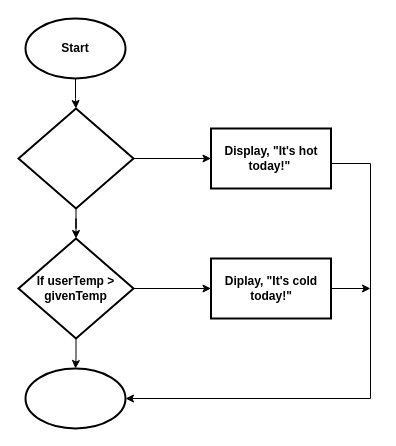
The diagram is 396 pixels wide and 446 high, and some of its shapes have lost their labels. Here are the shapes that lost their labels. From the top down, the box of each, then its label:
(17, 107, 134, 209): If userTemp < givenTemp
(24, 367, 126, 429): End
